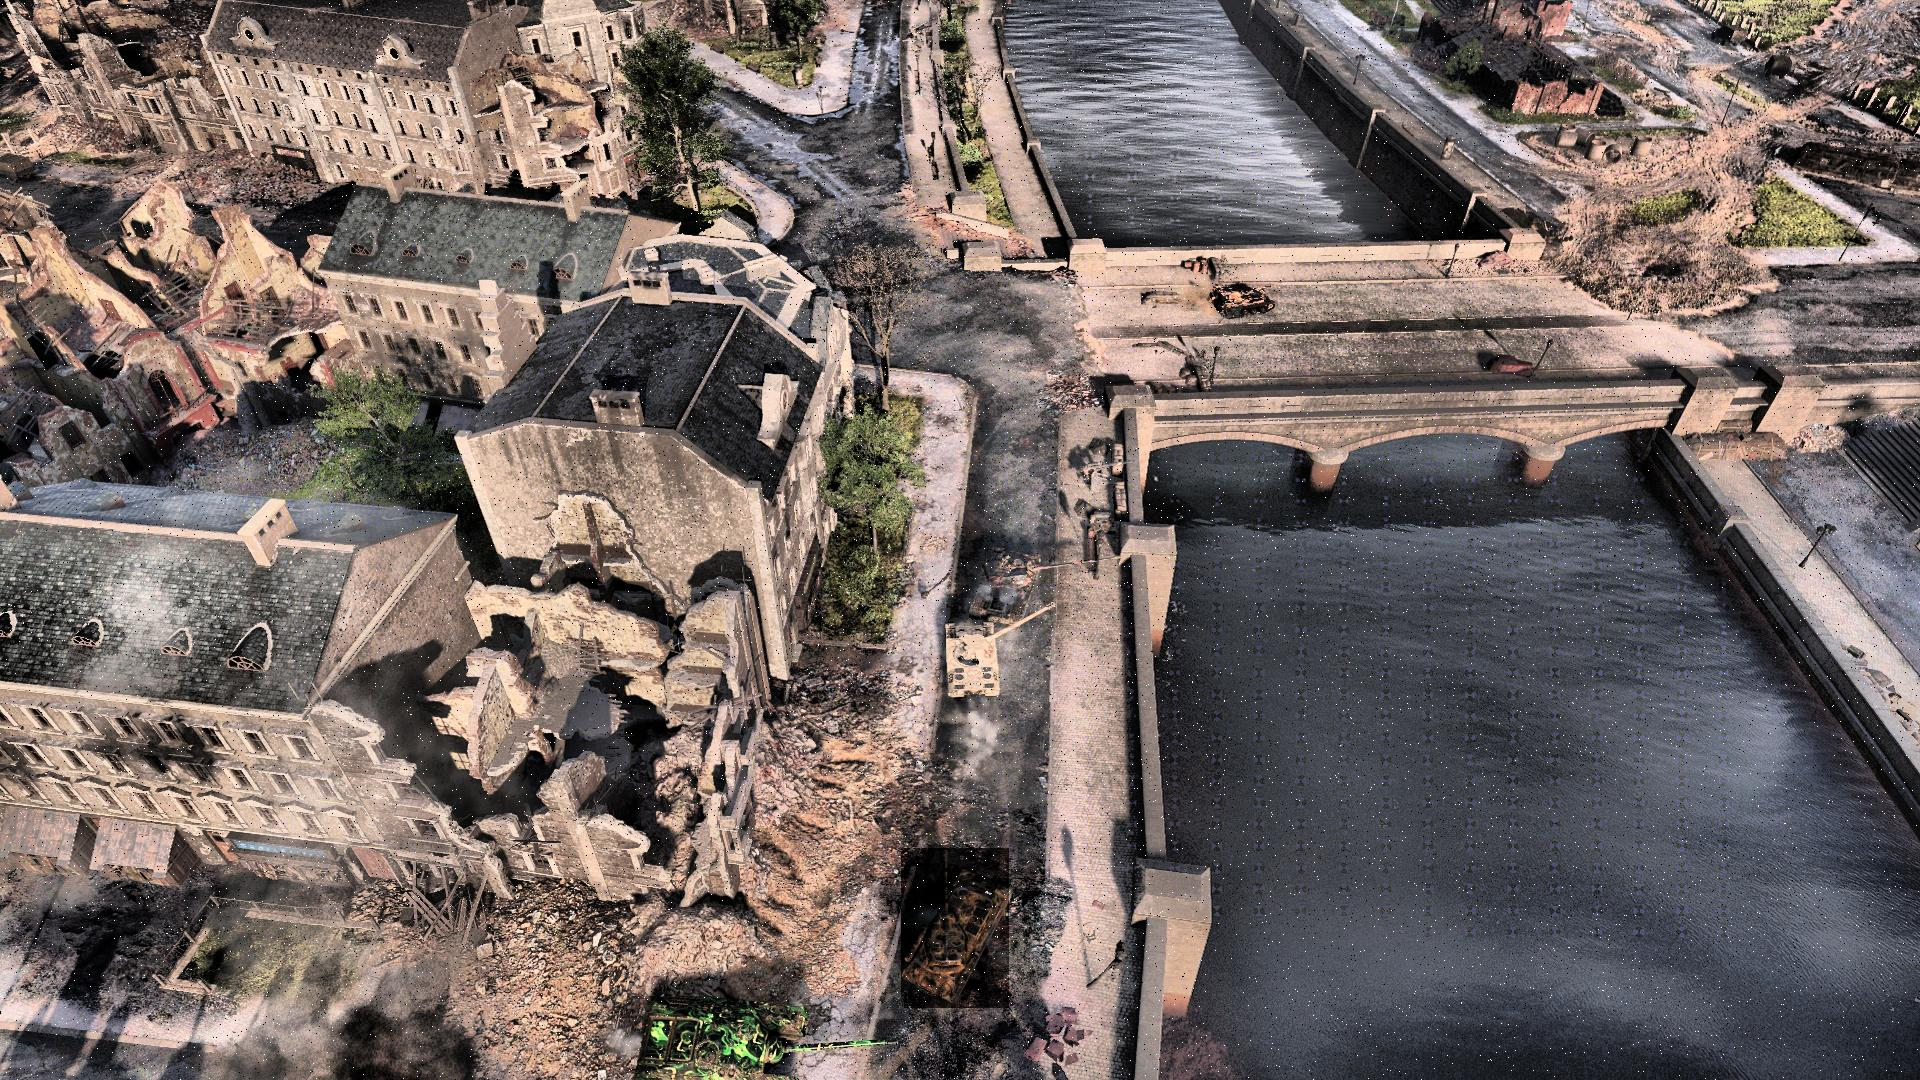military-vehicle: (632, 997, 905, 1080), (902, 848, 1010, 1009), (947, 599, 1056, 702), (972, 543, 1104, 628), (1211, 282, 1278, 316)
